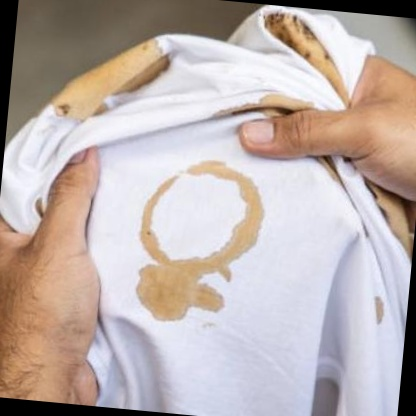coffee: (134, 255, 211, 323), (237, 183, 265, 248), (137, 223, 165, 258), (199, 165, 244, 179), (212, 247, 233, 273)
